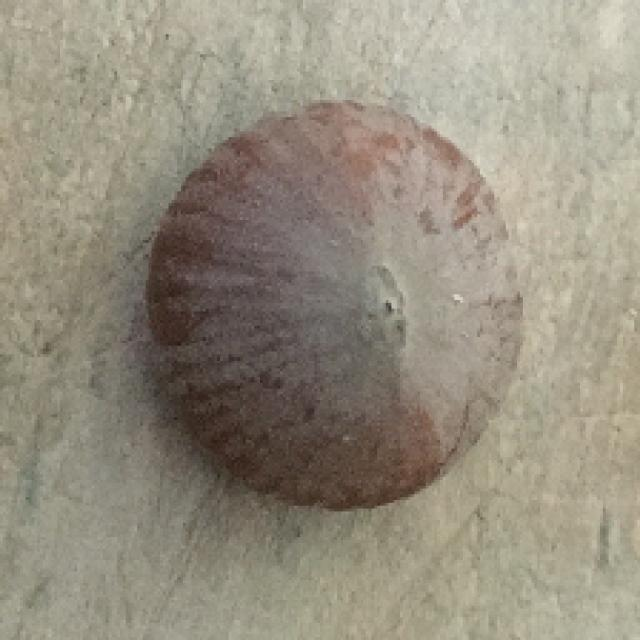qualityHazelnut: (145, 97, 528, 515)
